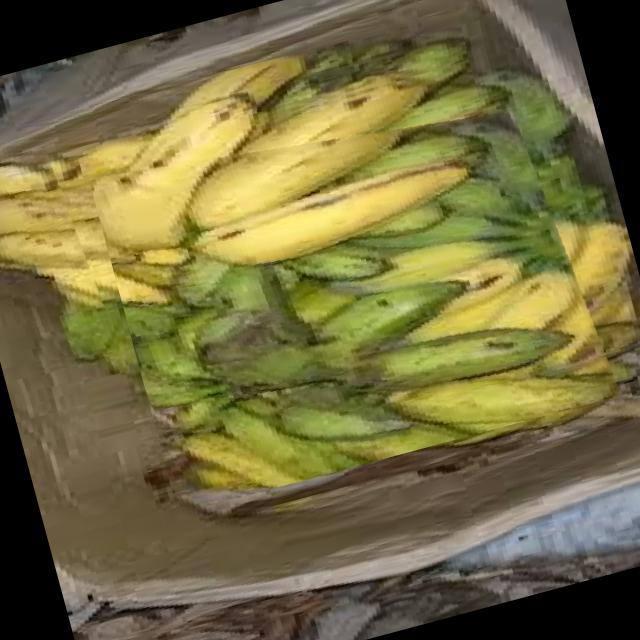Organic: (87, 54, 625, 512), (69, 2, 494, 171), (0, 134, 128, 397)
